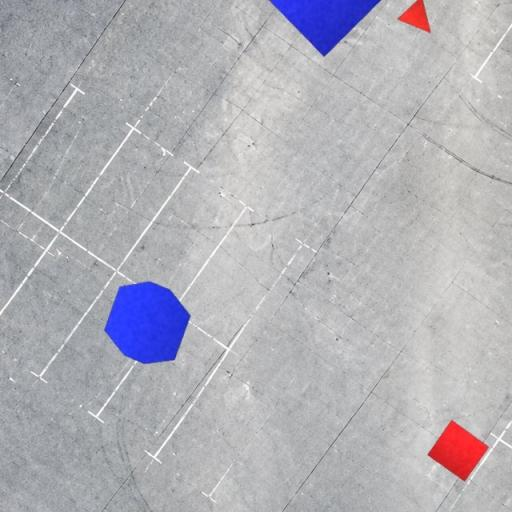BLUE_SQUARE: (261, 0, 386, 58)
RED_SQUARE: (426, 420, 490, 482)
